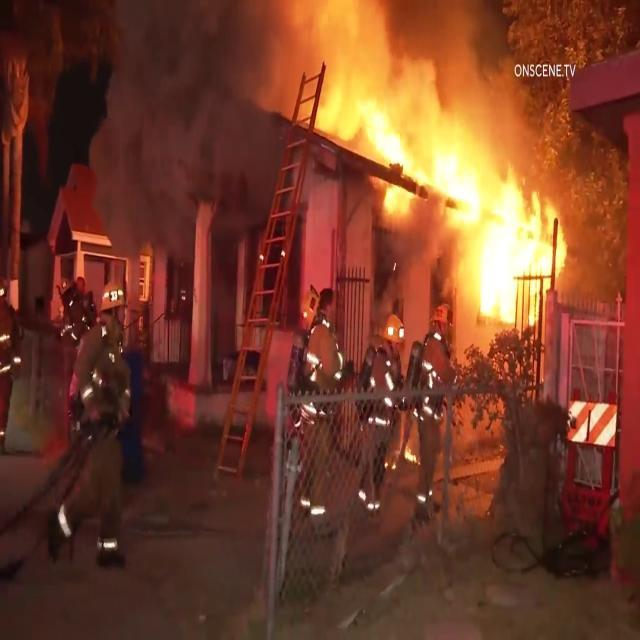Fire: (316, 60, 553, 292)
Smoke: (135, 0, 259, 210)
